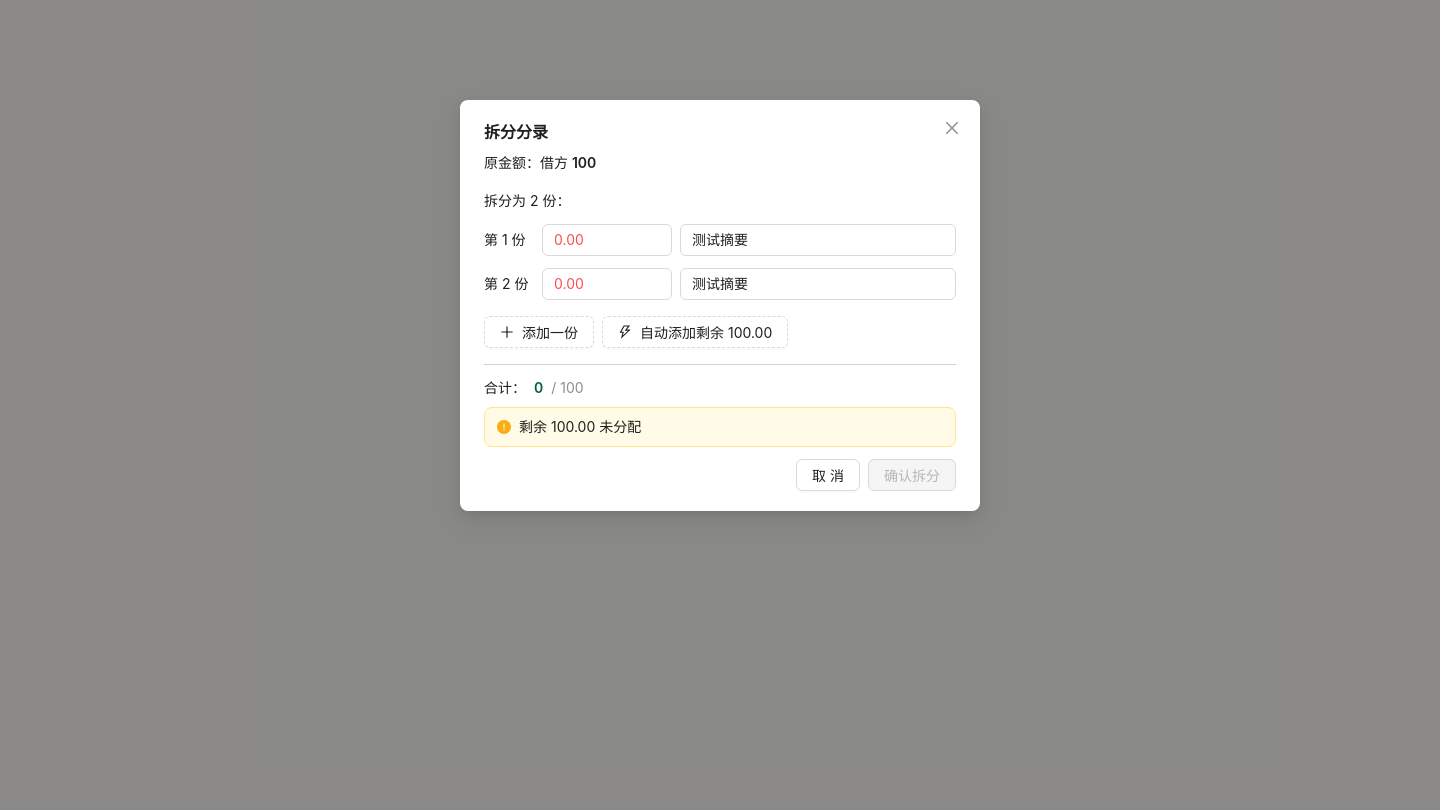
Test: SplitEntryModal › autoFillRemaining guard › hides auto-fill button when remaining is tiny but positive (<= 0.005)
Replace the text in the 1st number field with "49.998" at (607, 240), box [543,225,671,255]
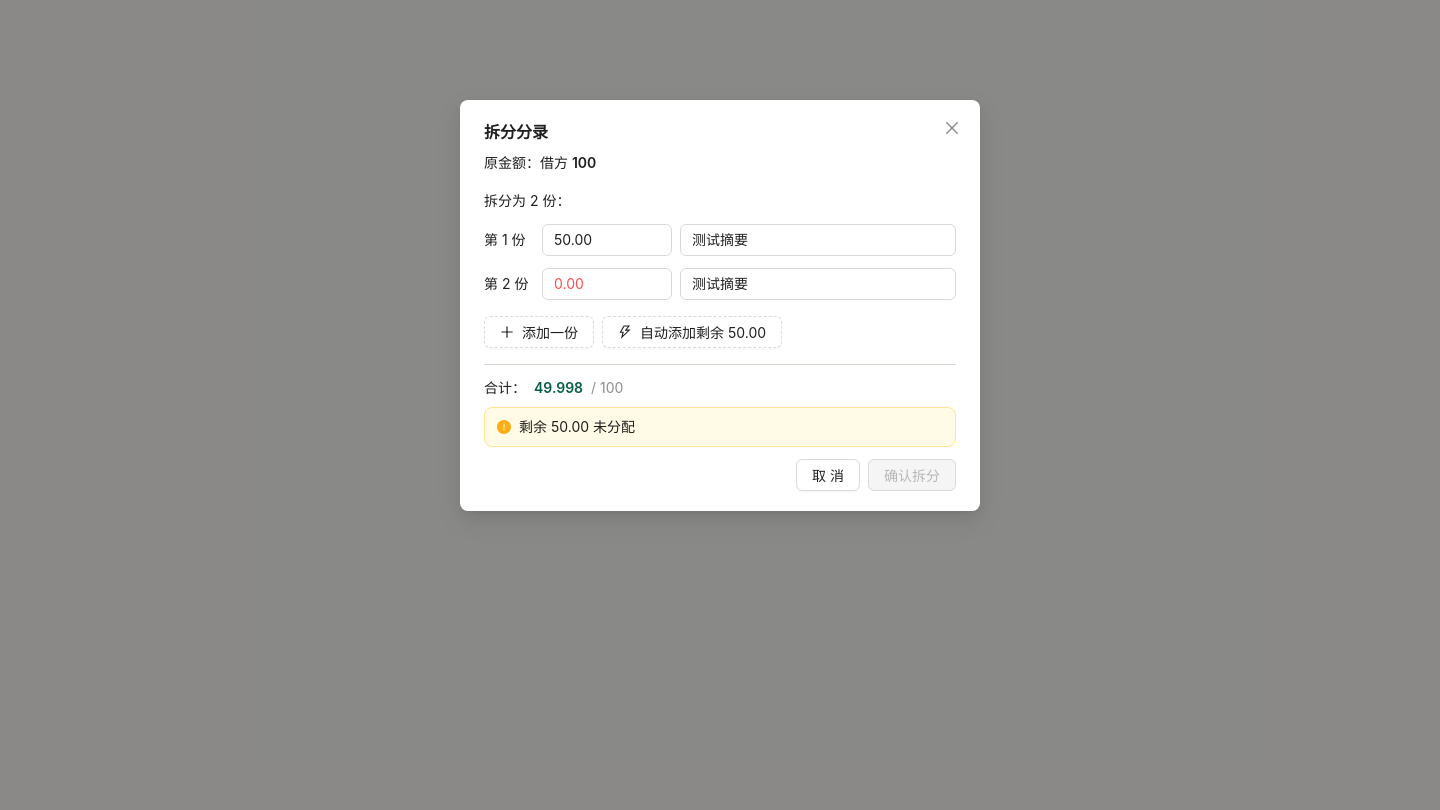
Replace the text in the 2nd number field with "49.998" at (607, 284), box [543,269,671,299]
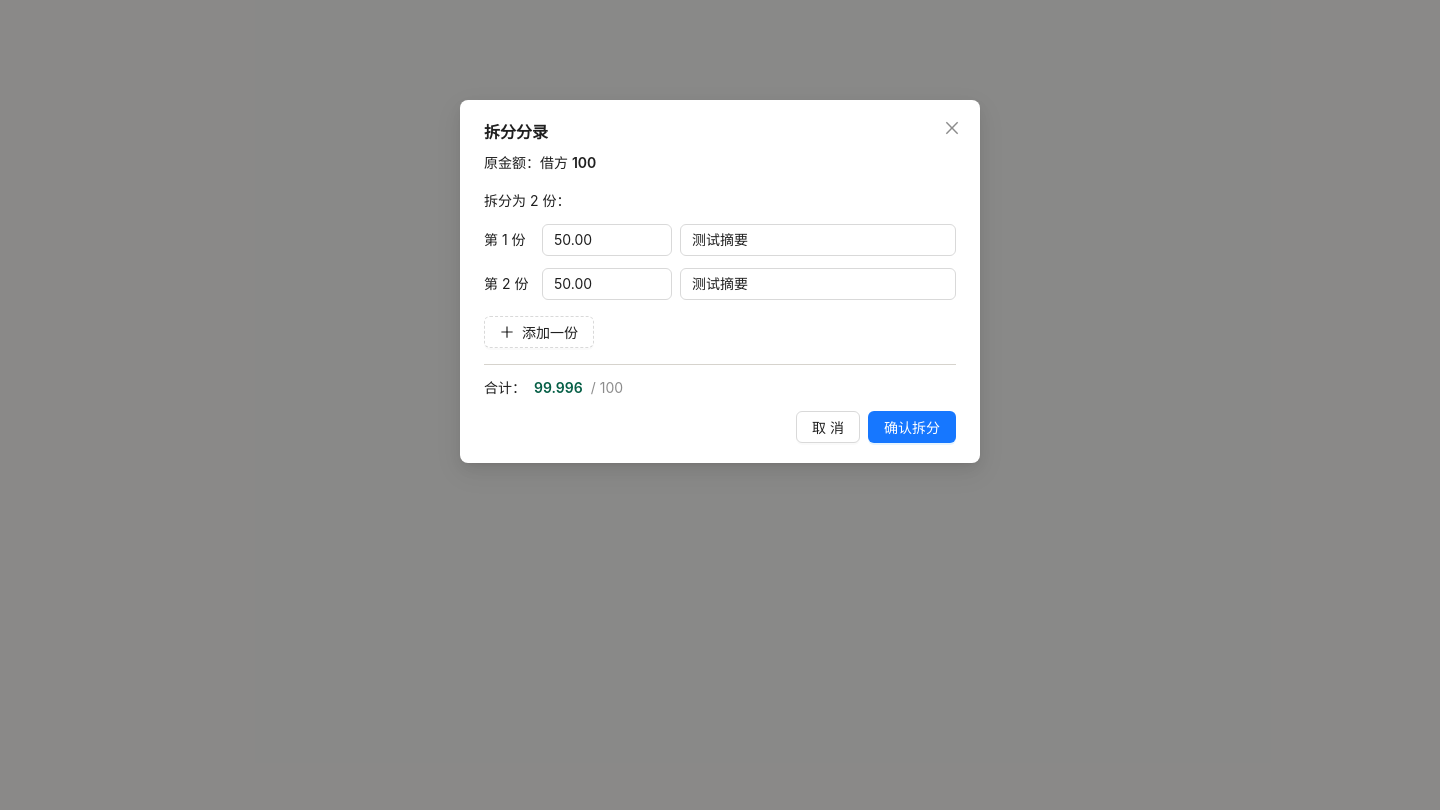
expect the button "自动添加剩余" is gone: met
